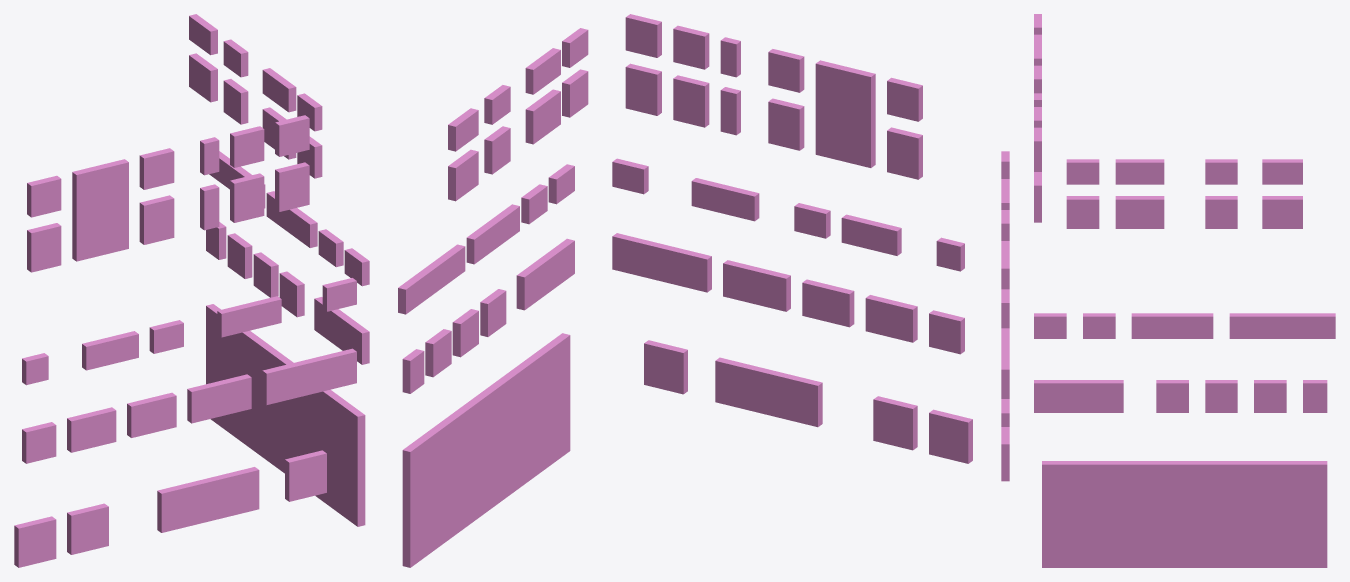
File: SideBuildings2-1.obj
The picture shows the model from 3 angles, left to right: view 1: azimuth 30°, elevation 25°; view 2: azimuth 150°, elevation 25°; view 3: azimuth 270°, elevation 25°; orthographic projection. The views are drawn at different scales.
Bounding box in the file's own units: 4.9 × 5.4 × 4.1.
Materials: 1 (1 with a texture image).
